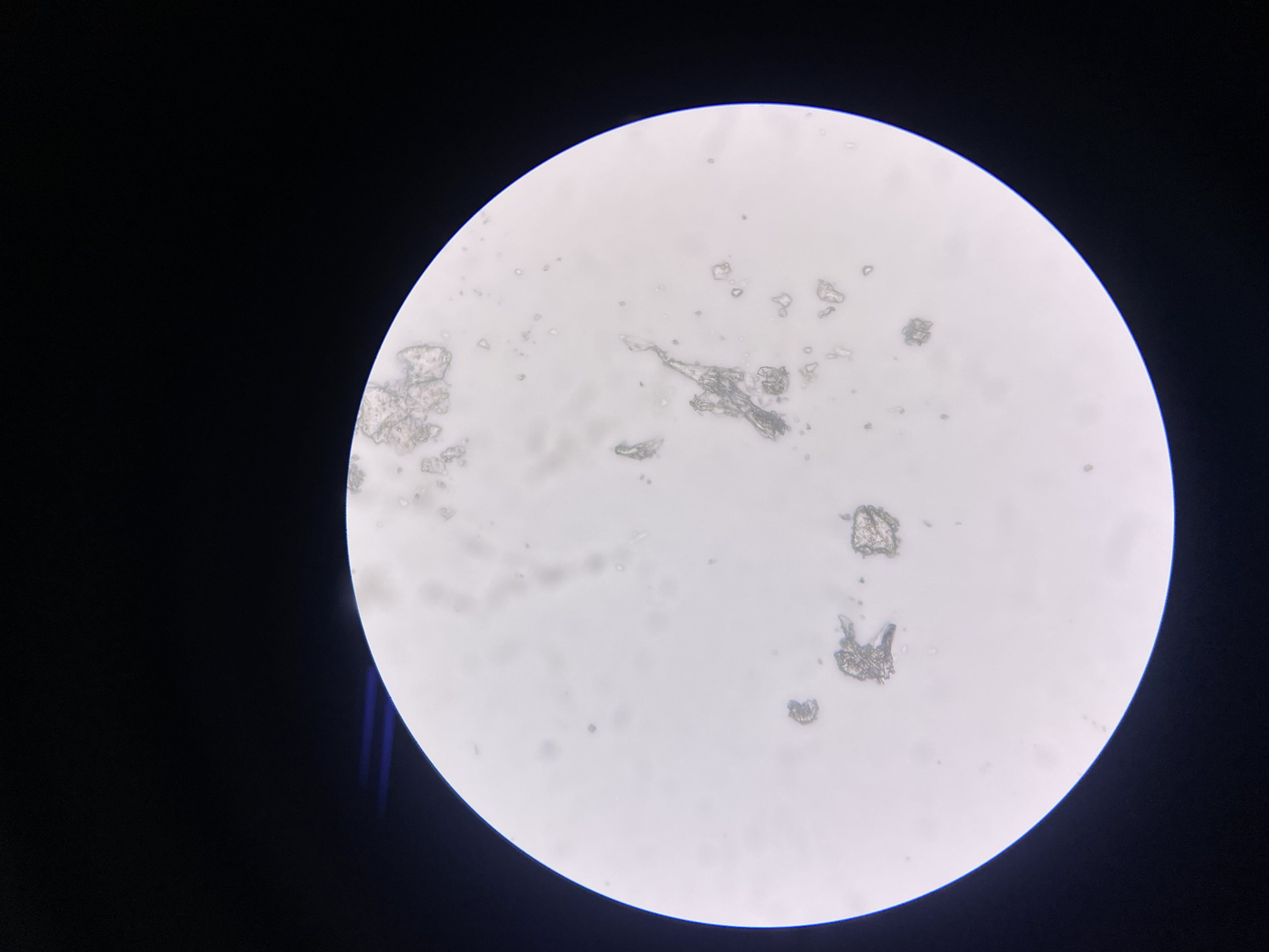microplastic: (625, 336, 799, 444), (358, 346, 459, 452), (829, 611, 906, 685), (843, 499, 911, 560), (423, 450, 470, 475), (612, 439, 667, 460), (899, 316, 937, 344), (785, 700, 821, 723), (814, 280, 847, 305), (346, 460, 368, 494), (802, 365, 824, 383), (770, 295, 793, 311), (713, 262, 735, 278), (814, 306, 839, 319), (831, 345, 852, 357), (729, 287, 747, 299), (1081, 466, 1097, 477), (858, 265, 875, 275), (516, 269, 530, 276)
